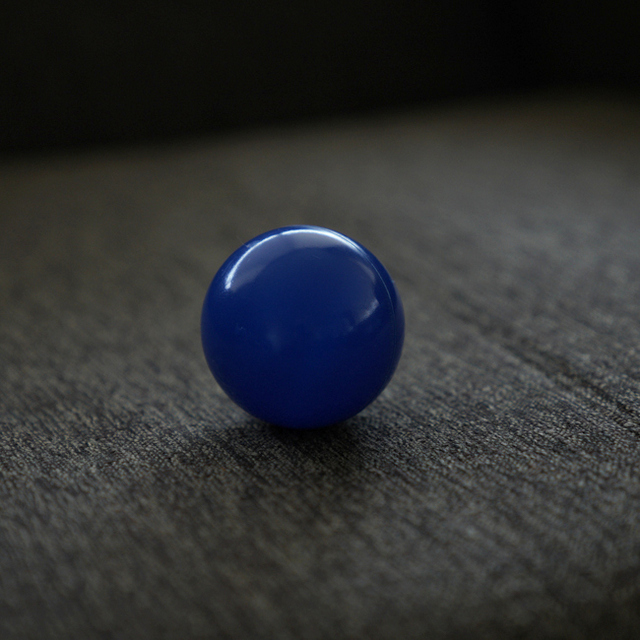Ball: (202, 223, 403, 428)
